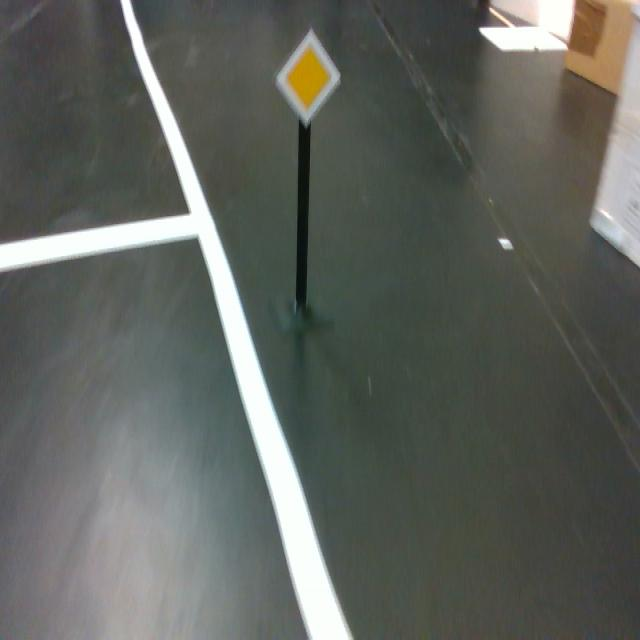priority-sign: (275, 26, 341, 129)
